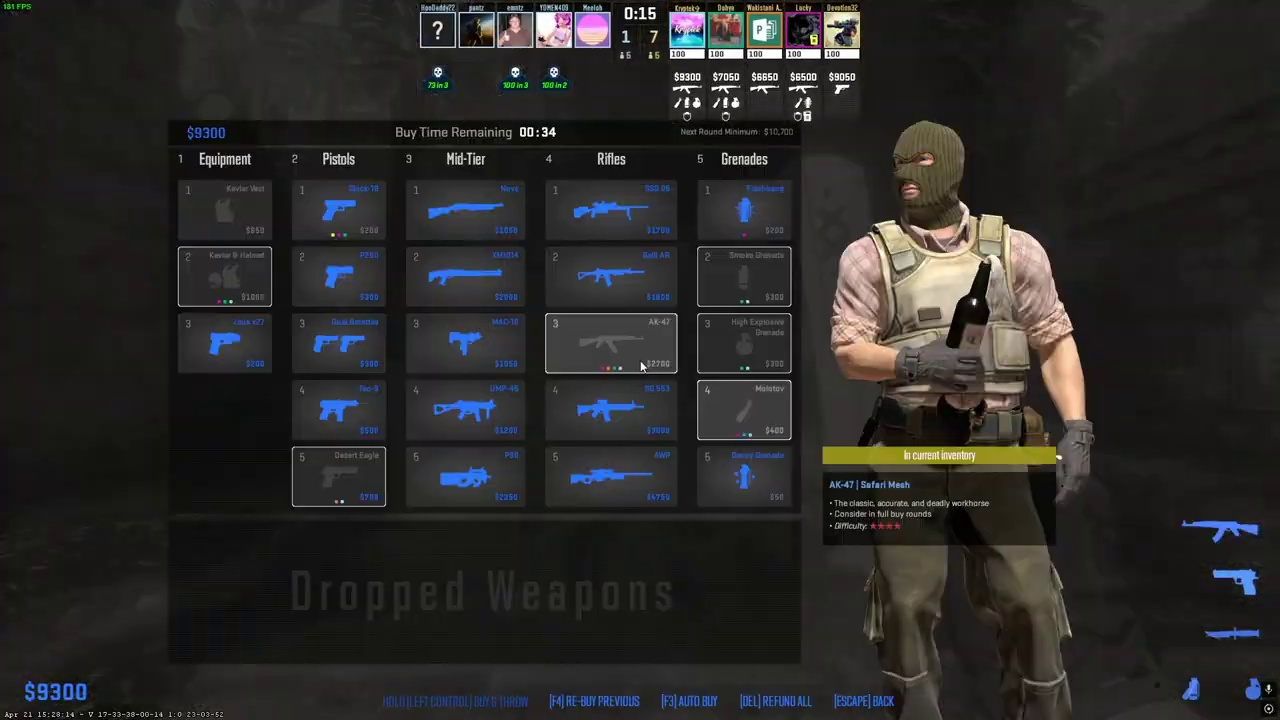Terrorist: (845, 121, 1077, 720)
